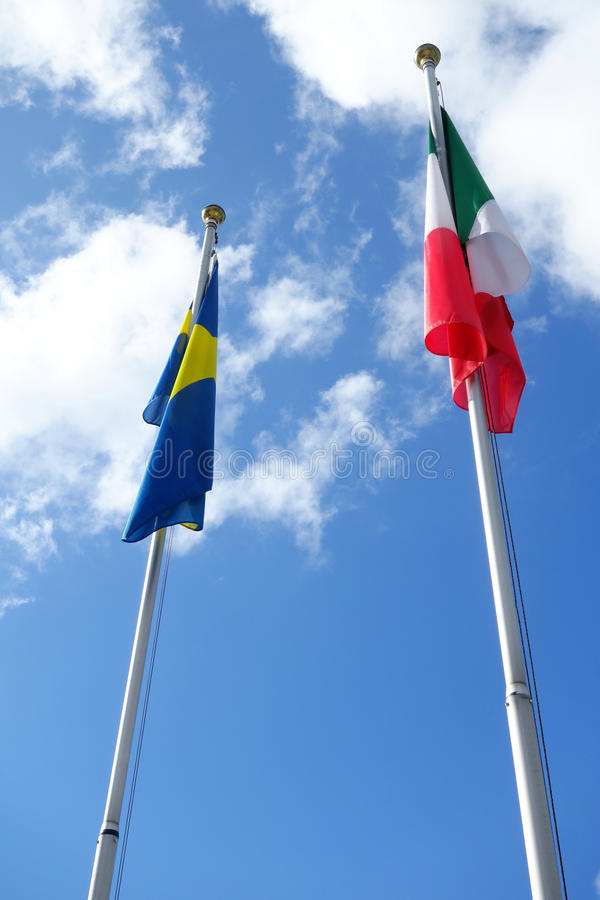Flag: (407, 73, 547, 447), (103, 204, 236, 562)
